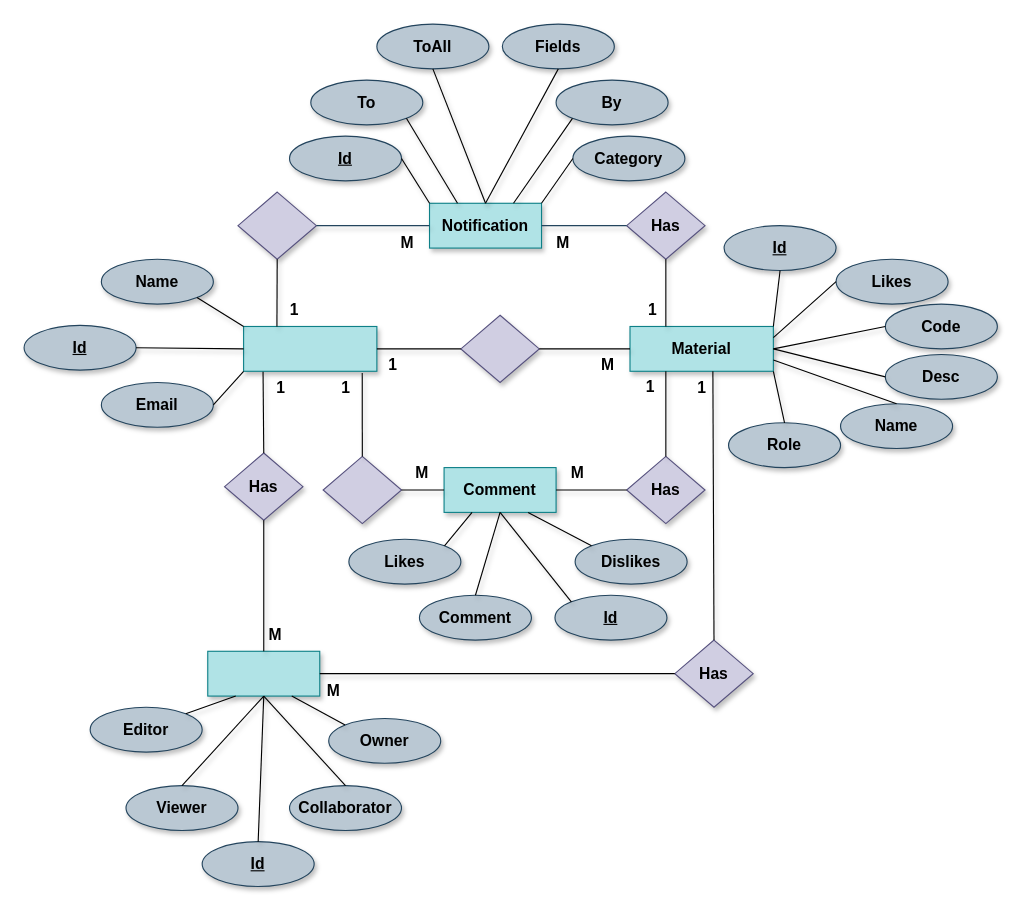
The diagram is 1024 pixels wide and 914 high, and some of its shapes have lost their labels. The shapes that lost their labels are listed below. From the top down, each one's centre as x and y in pixels, then its label:
At [277,226]: "Receive".
At [311,350]: "User".
At [500,350]: "Contains".
At [363,491]: "Post".
At [264,675]: "Roles".
